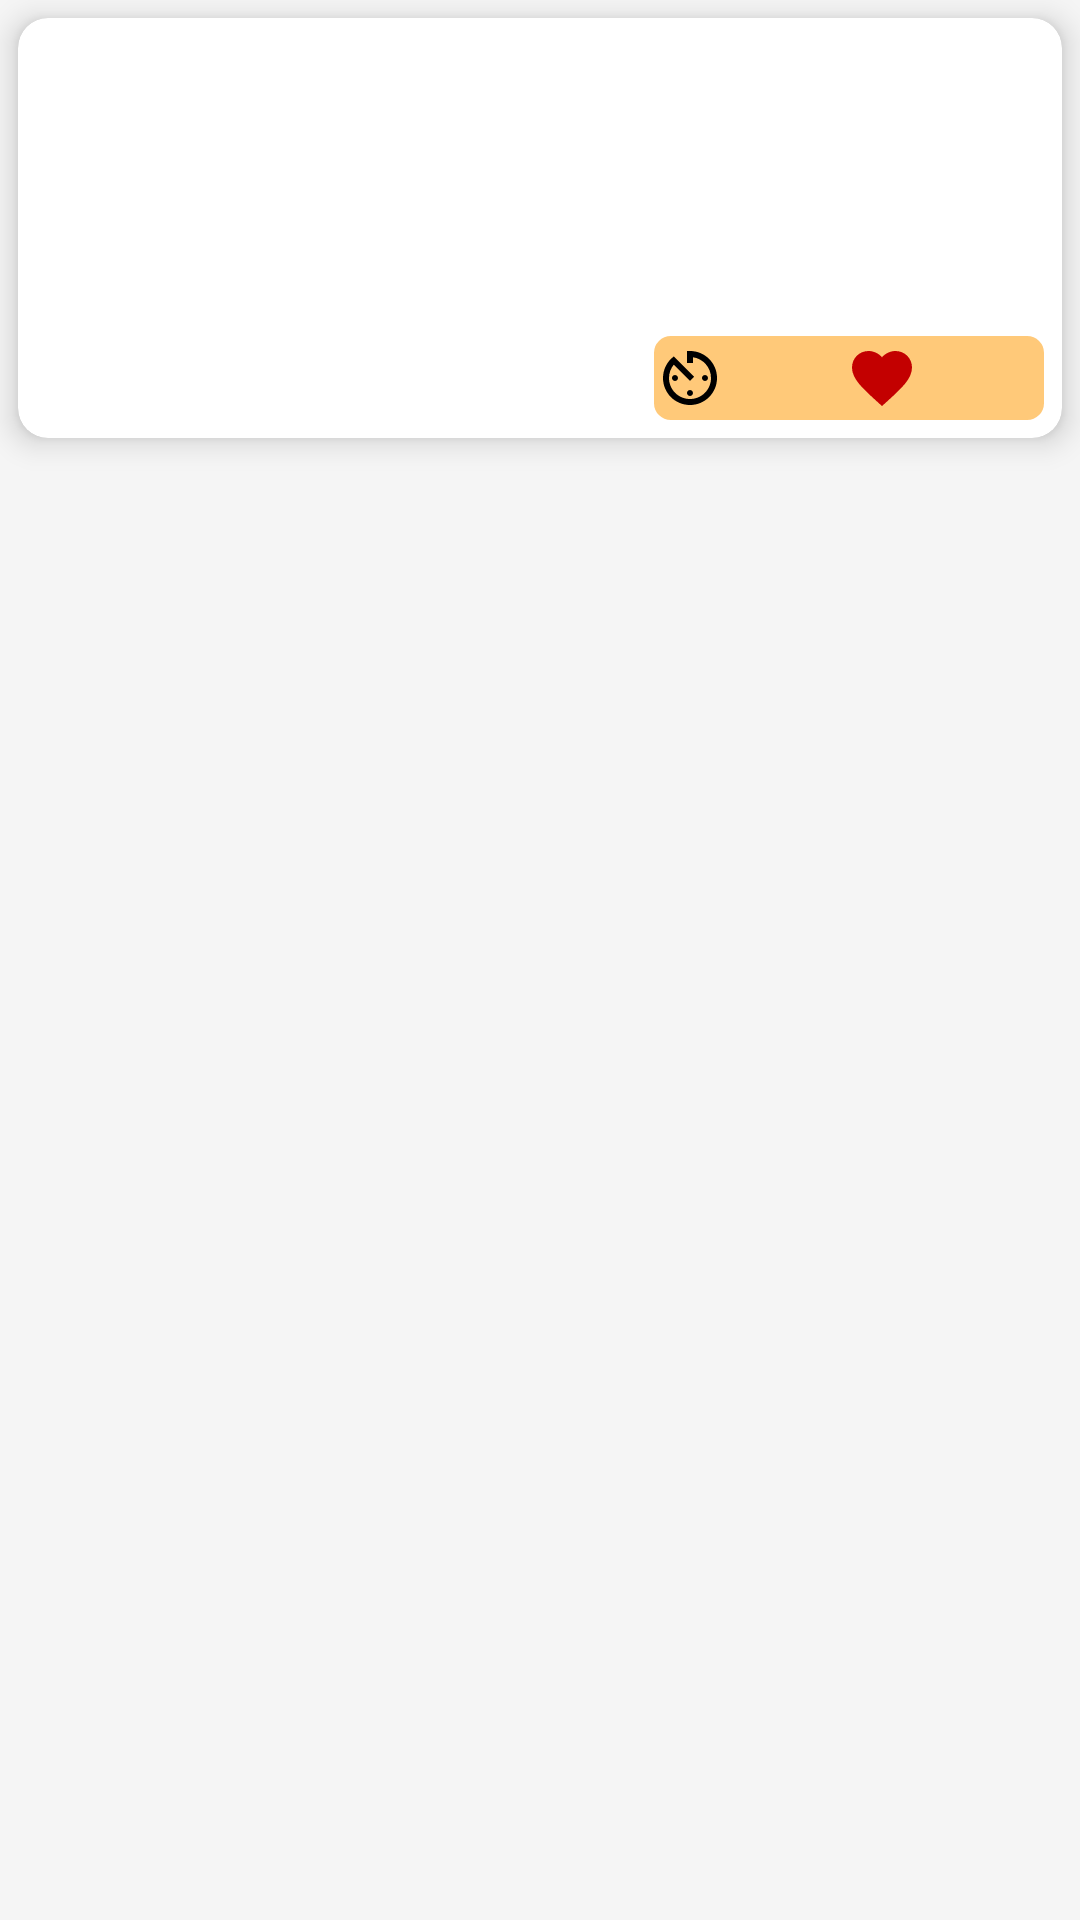

Where icons sit on this 1080×1920 app screen, as (x1, y1, x2, y2):
cooking timer: (663, 351, 717, 405)
likes: (852, 351, 912, 406)
